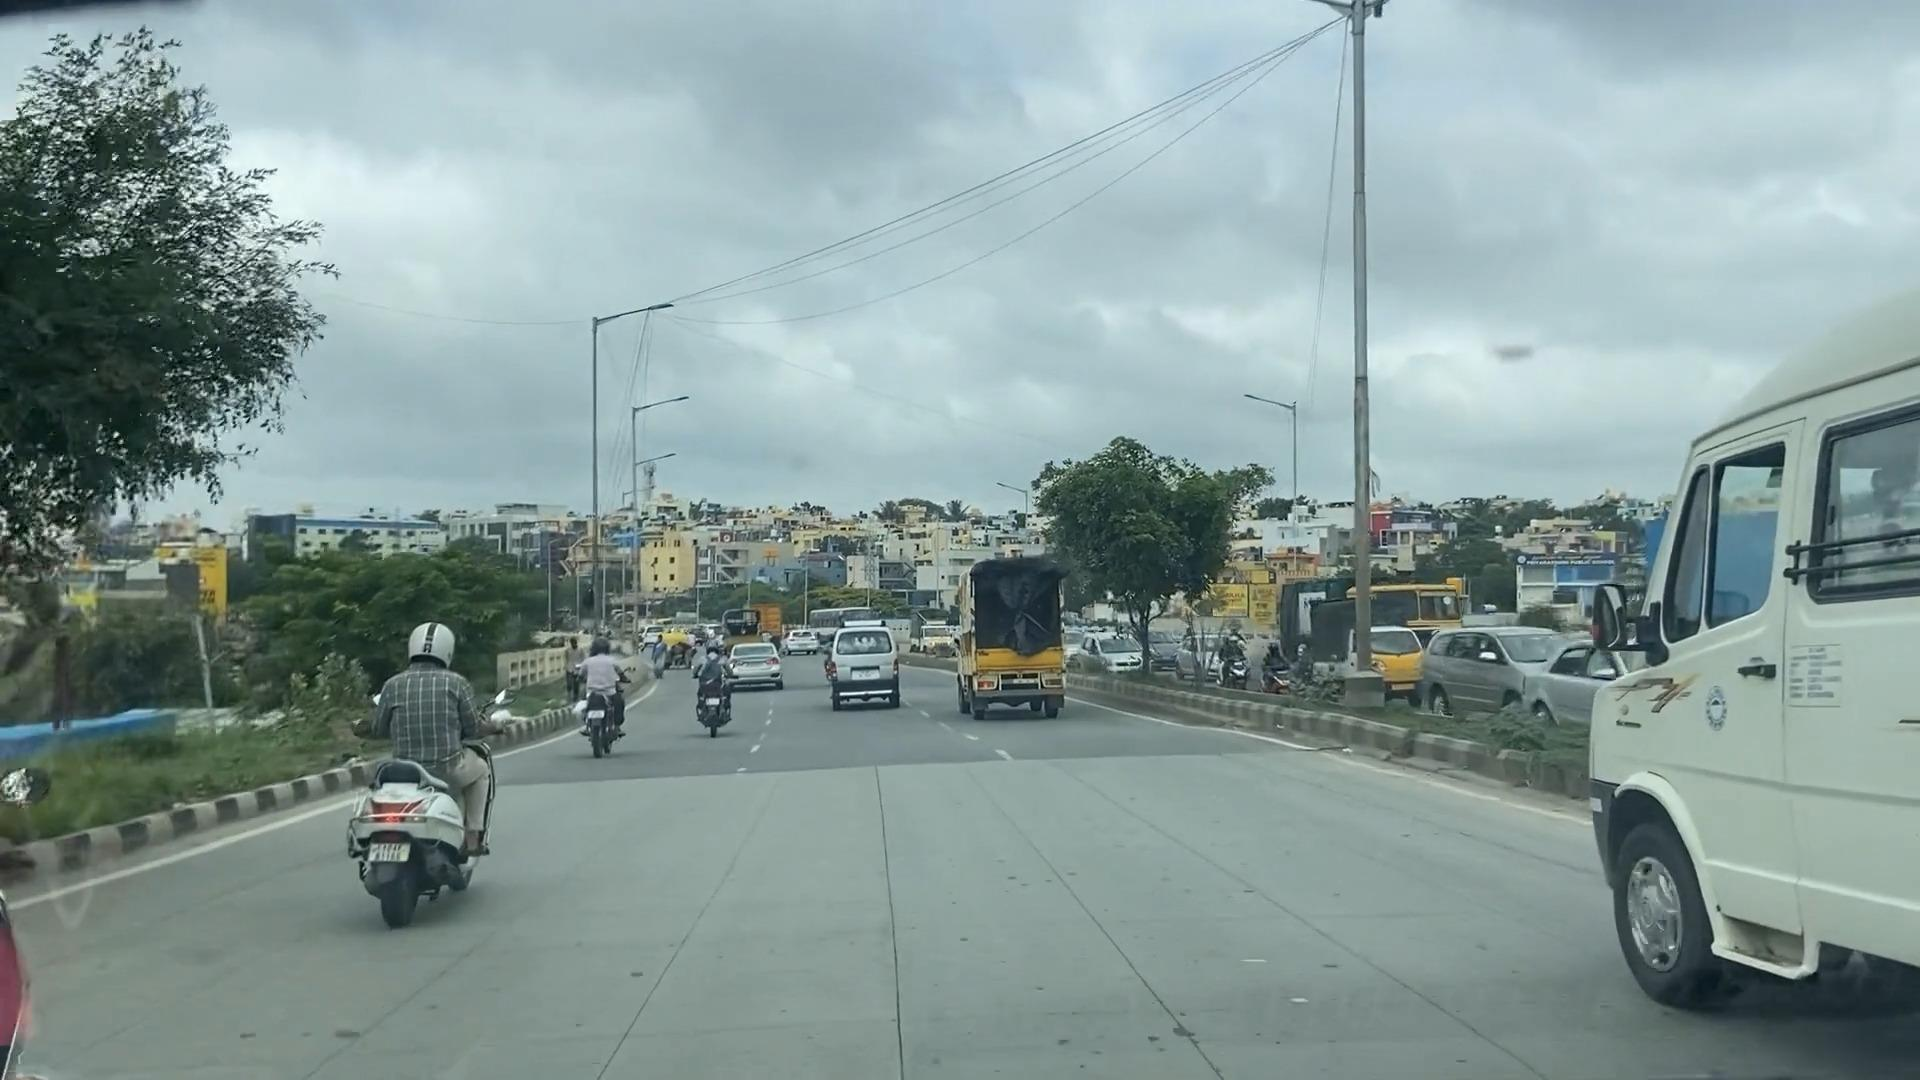HMV: (1623, 357, 1920, 952), (940, 558, 1073, 724)
LMV: (315, 588, 527, 947), (825, 622, 915, 724), (680, 650, 752, 740), (583, 608, 625, 757)
